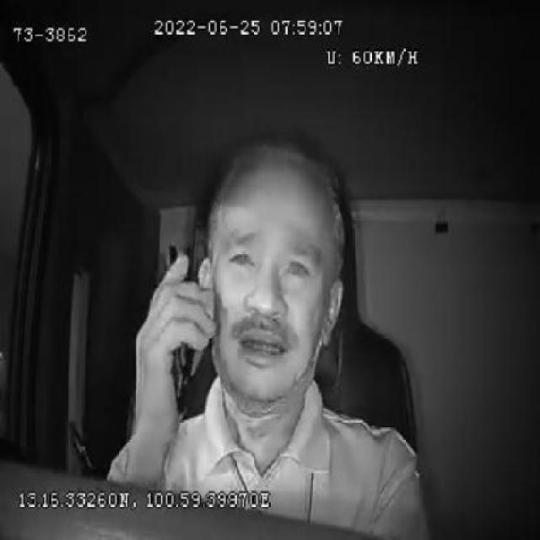phone: (162, 238, 197, 422)
